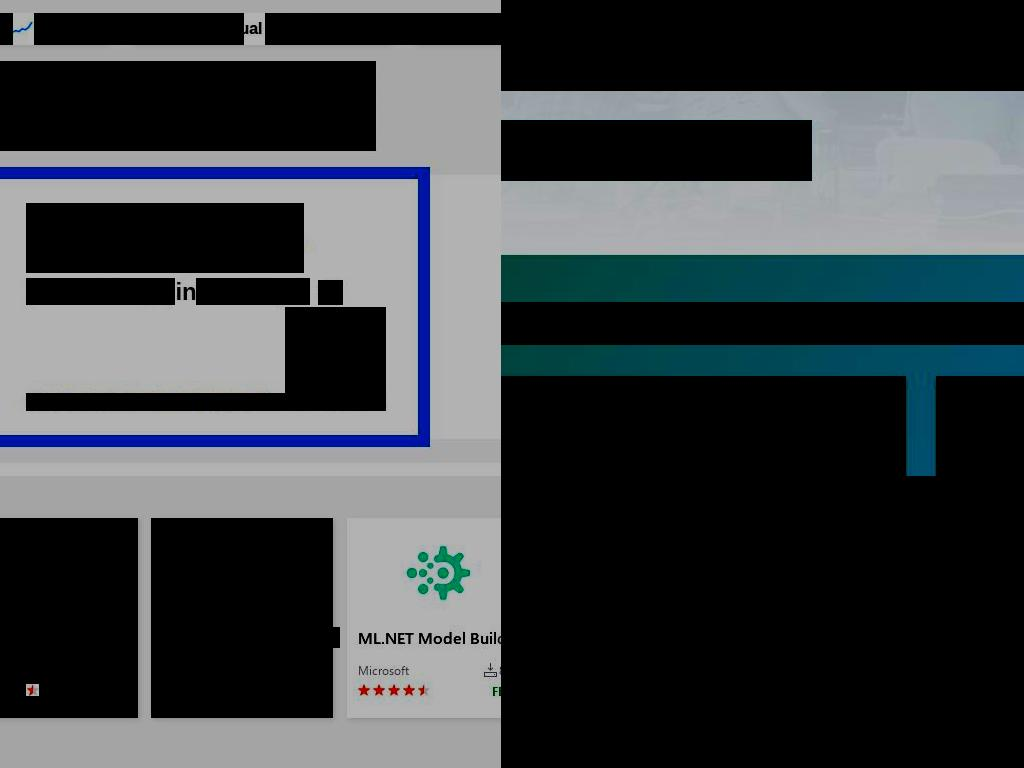button: (501, 376, 906, 476), (151, 518, 333, 718), (346, 518, 501, 718), (0, 518, 138, 718), (501, 120, 812, 181), (265, 13, 501, 45), (34, 13, 244, 45), (26, 393, 286, 411), (871, 521, 985, 552), (783, 521, 831, 552), (704, 521, 743, 552)
field: (656, 579, 1024, 634)
heading: (501, 0, 1024, 91), (501, 302, 1024, 345), (561, 395, 887, 421)
iframe: (501, 690, 1024, 768), (0, 61, 376, 151)
image: (501, 476, 1024, 768), (955, 395, 1024, 476), (10, 537, 83, 609), (401, 537, 474, 609), (206, 537, 278, 609), (501, 395, 543, 476), (120, 20, 167, 39), (403, 20, 450, 39), (292, 627, 322, 648), (318, 280, 343, 305), (41, 662, 72, 678), (432, 662, 463, 678), (237, 662, 267, 678), (487, 627, 501, 648), (126, 683, 137, 703), (322, 683, 332, 703), (11, 684, 24, 696), (26, 684, 39, 696), (357, 684, 370, 696), (372, 684, 385, 696), (387, 684, 400, 696), (402, 684, 415, 696), (417, 684, 430, 696), (162, 684, 174, 696), (177, 684, 189, 696), (192, 684, 204, 696), (207, 684, 219, 696), (222, 684, 234, 696), (0, 684, 9, 696)
link: (561, 427, 887, 468)
text: (26, 203, 304, 273), (285, 307, 386, 411), (654, 476, 1024, 494), (162, 627, 340, 648), (357, 627, 501, 648), (282, 17, 396, 41), (26, 393, 168, 410), (243, 278, 310, 305), (168, 393, 273, 410), (116, 278, 175, 305), (9, 627, 84, 648), (51, 17, 113, 41), (66, 278, 118, 305), (26, 278, 66, 305), (174, 21, 227, 37), (357, 662, 409, 678), (162, 662, 213, 678), (216, 278, 243, 305), (457, 21, 501, 37), (175, 278, 198, 305), (196, 278, 217, 305), (100, 683, 127, 701), (296, 683, 322, 701), (101, 662, 127, 678), (297, 662, 322, 678), (0, 662, 18, 678), (491, 683, 501, 701)
